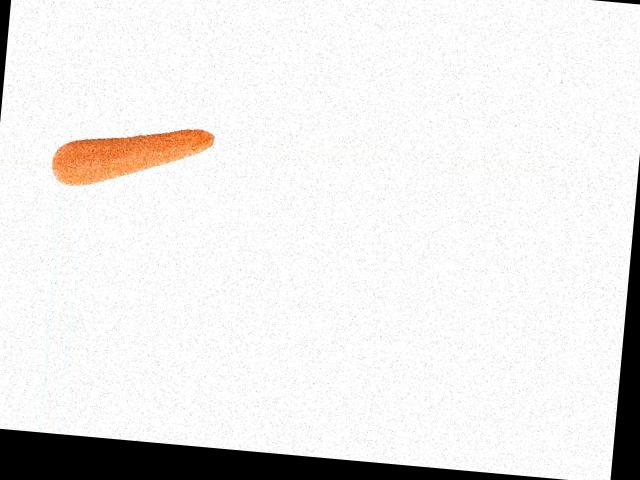carrot: (76, 112, 219, 198)
